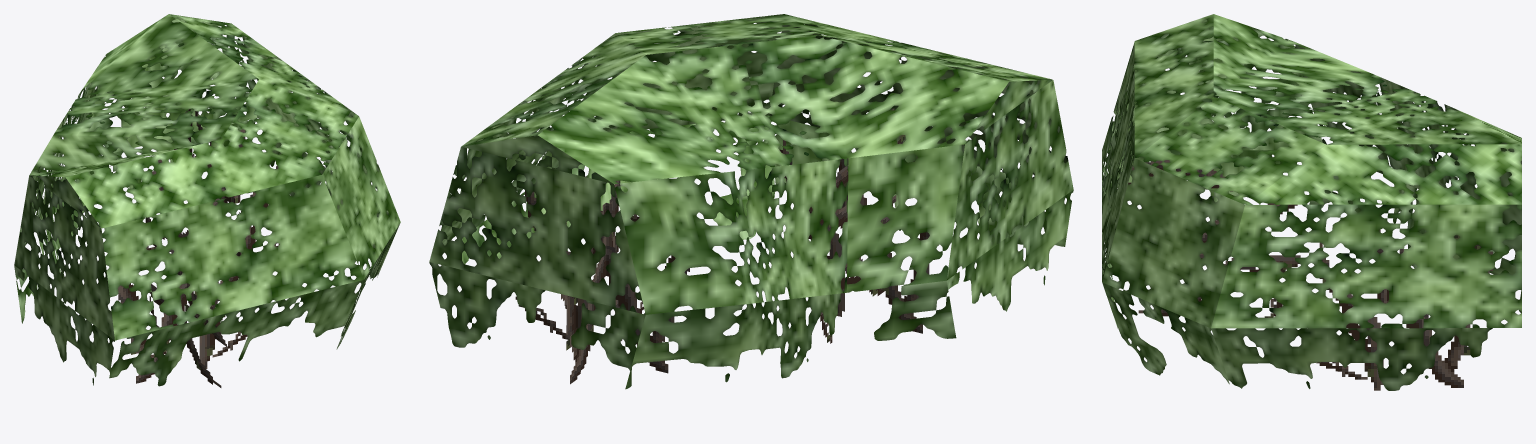
The model's file is bush_round_corner_filled_root_summer.fbx.
The picture shows the model from 3 angles, left to right: view 1: azimuth 30°, elevation 25°; view 2: azimuth 150°, elevation 25°; view 3: azimuth 270°, elevation 25°; orthographic projection. The views are drawn at different scales.
Parts seen in each view (by area): view 1: bush_round_corner_filled_root_summer; view 2: bush_round_corner_filled_root_summer; view 3: bush_round_corner_filled_root_summer.
Boxes of the visible parts, x1,y1,x2,y2 form: bush_round_corner_filled_root_summer: (14, 14, 400, 387); bush_round_corner_filled_root_summer: (429, 14, 1073, 389); bush_round_corner_filled_root_summer: (1102, 14, 1521, 390).
Bounding box in the file's own units: 136 × 87.65 × 135.
2 materials, 2 textured.
